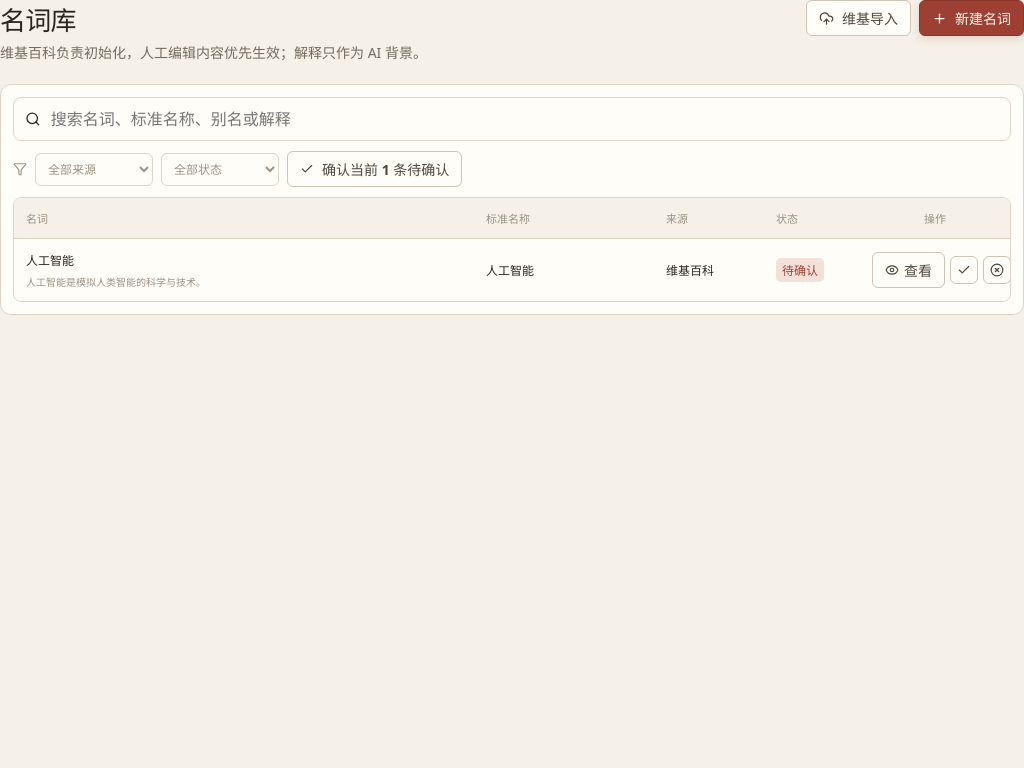
Test case: 名词库的维基导入与来源展示 › 详情页展示来源链接与 CC BY-SA 4.0
Click the button "查看": (908, 270) x1=872 y1=252 x2=945 y2=288
(page scrolled)
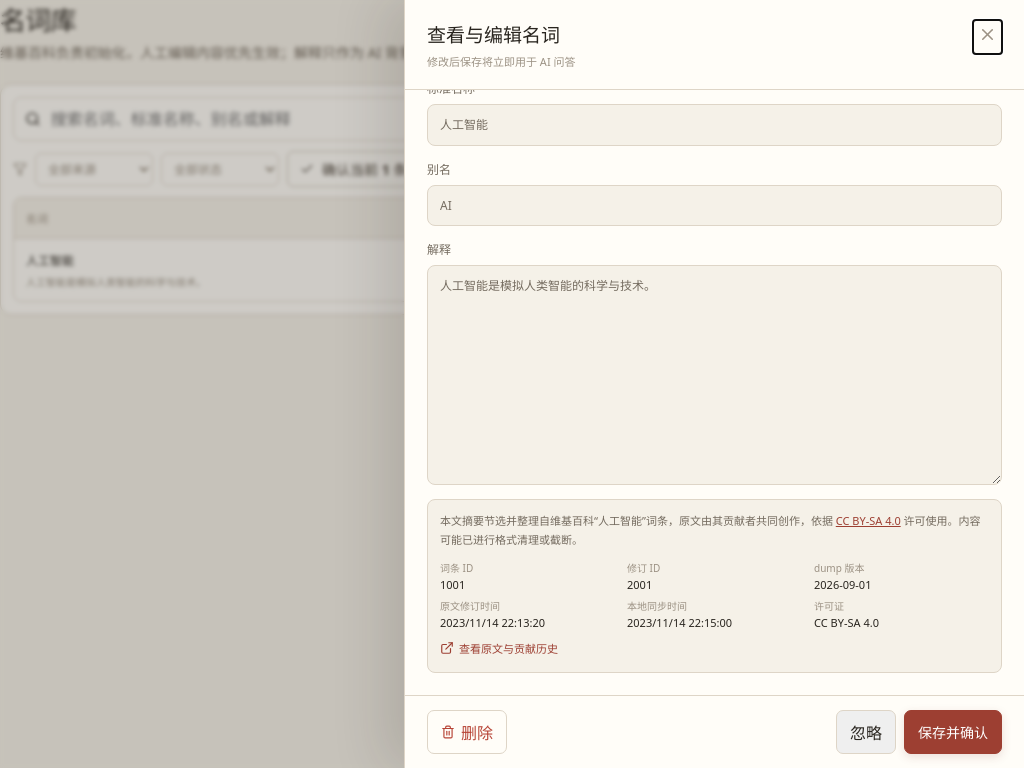
Expected: the text "1001" is shown, x1=440 y1=577 x2=465 y2=592
Expected: the text "2001" is shown, x1=627 y1=577 x2=652 y2=592
Expected: the text "2026-09-01" is shown, x1=814 y1=577 x2=871 y2=592
